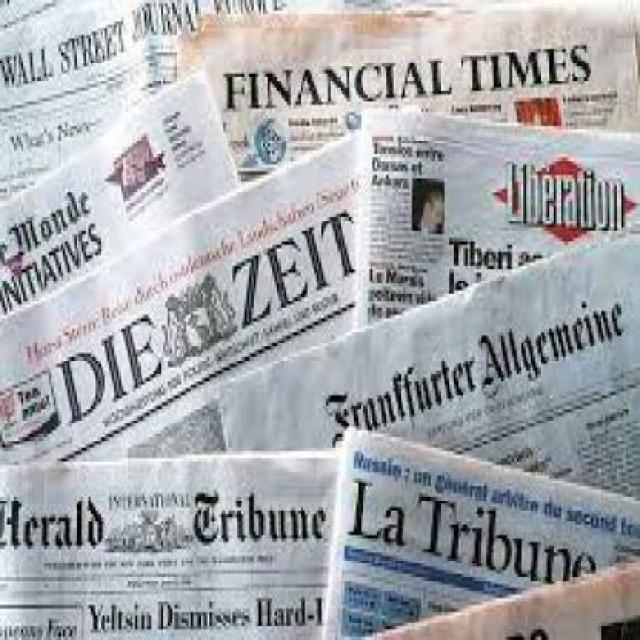PAPER: (0, 0, 638, 637), (0, 125, 358, 454), (214, 227, 638, 493), (174, 0, 637, 178), (324, 423, 638, 637), (0, 447, 338, 638), (356, 105, 638, 332), (0, 66, 243, 309), (0, 0, 266, 137), (360, 552, 638, 637)
